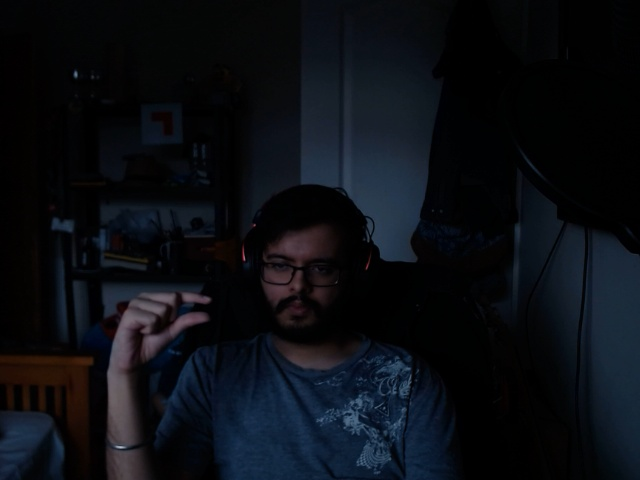Small: (103, 277, 215, 394)
